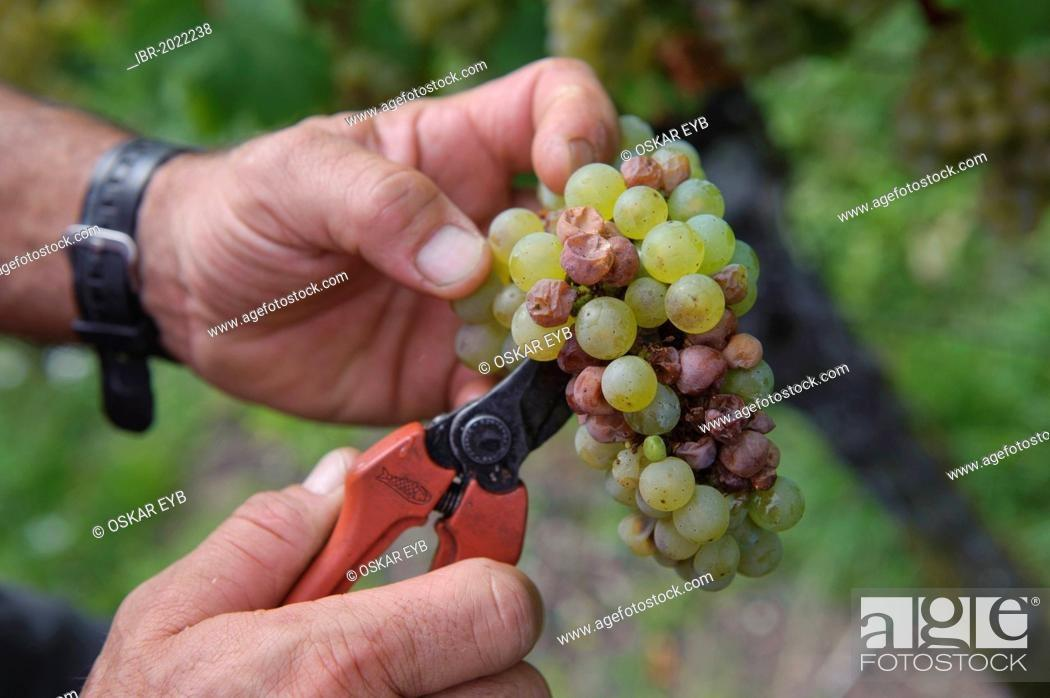Grape Rotten: (449, 120, 806, 592)
